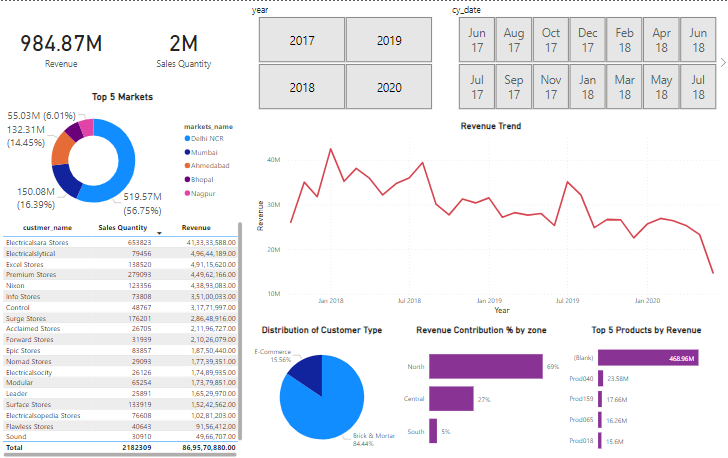

Layout of this report page (visuals, bound fields, positions):
{"tool":"powerbi","page":{"name":"Page 1","canvas":[1350,850],"ordinal":0},"visuals":[{"type":"card","fields":{"Values":["BaseMeasures.Revenue"]},"box":[0,0,225.9,166.7],"z":0},{"type":"card","fields":{"Values":["BaseMeasures.Sales Quantity"]},"box":[225.9,0,227.8,166.7],"z":1000},{"type":"donutChart","title":"Top 5 Markets","fields":{"Category":["sales markets.markets_name"],"Y":["BaseMeasures.Revenue"]},"box":[0,166.7,453.7,237],"z":2000},{"type":"tableEx","title":"Top 5 Sales Quantity by Customer","fields":{"Values":["sales customers.custmer_name","BaseMeasures.Sales Quantity","BaseMeasures.Revenue"]},"box":[0,403.7,453.7,446.3],"z":3000},{"type":"slicer","fields":{"Values":["sales date.year"]},"box":[453.7,0,370.4,207.4],"z":4000},{"type":"slicer","fields":{"Values":["sales date.cy_date"]},"box":[824.1,0,525.9,207.4],"z":4001},{"type":"pieChart","title":"Distribution of Customer Type","fields":{"Category":["sales customers.customer_type"],"Y":["BaseMeasures.Revenue"]},"box":[453.7,598.1,285.2,251.9],"z":4002},{"type":"barChart","title":"Top 5 Products by Revenue","fields":{"Y":["BaseMeasures.Revenue"],"Category":["sales products.product_code"]},"box":[1044.4,598.1,305.6,251.9],"z":4003},{"type":"lineChart","title":"Revenue Trend","fields":{"Y":["BaseMeasures.Revenue"],"Category":["sales date.cy_date.Variation.Date Hierarchy.Year","sales date.cy_date.Variation.Date Hierarchy.Quarter","sales date.cy_date.Variation.Date Hierarchy.Month","sales date.cy_date.Variation.Date Hierarchy.Day"]},"box":[468.5,220.4,881.5,364.8],"z":4004},{"type":"barChart","fields":{"Y":["BaseMeasures.Revenue Contribution %"],"Category":["sales markets.zone"]},"box":[738.9,598.1,305.6,251.9],"z":4005}]}

Visuals, with their boxes in screenshot pixels (x1, y1, x2, y2), scaled from the page's 1350x850 canvas onto the 728x458 screenshot:
card - BaseMeasures.Revenue: region(0, 0, 122, 90)
card - BaseMeasures.Sales Quantity: region(122, 0, 245, 90)
"Top 5 Markets" donutChart: region(0, 90, 245, 218)
"Top 5 Sales Quantity by Customer" tableEx: region(0, 218, 245, 457)
slicer - sales date.year: region(245, 0, 444, 112)
slicer - sales date.cy_date: region(444, 0, 727, 112)
"Distribution of Customer Type" pieChart: region(245, 322, 398, 457)
"Top 5 Products by Revenue" barChart: region(563, 322, 727, 457)
"Revenue Trend" lineChart: region(253, 119, 727, 315)
barChart - BaseMeasures.Revenue Contribution % x sales markets.zone: region(398, 322, 563, 457)
